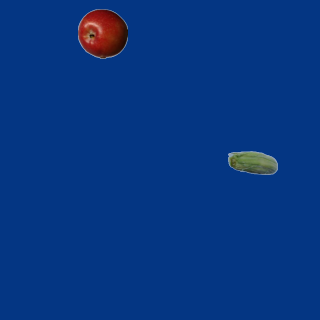Apple Braeburn: (77, 8, 127, 58)
Corn Husk: (227, 139, 277, 189)
